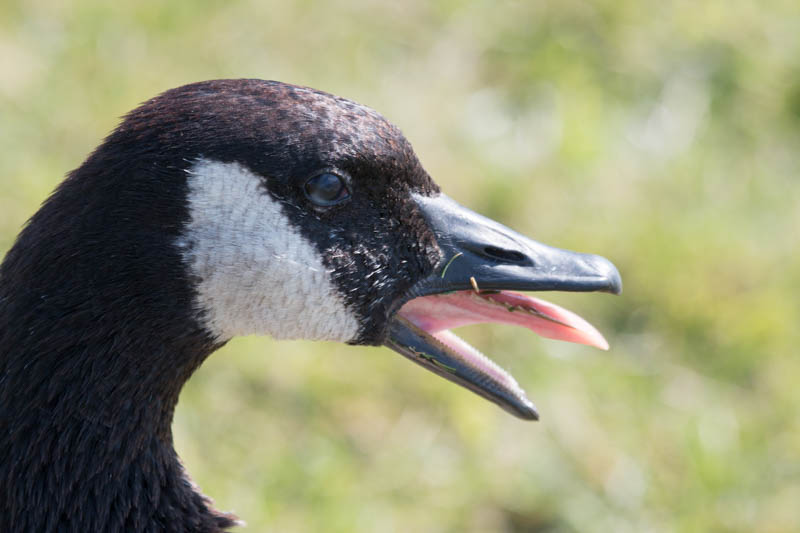goose-head: (94, 78, 624, 422)
